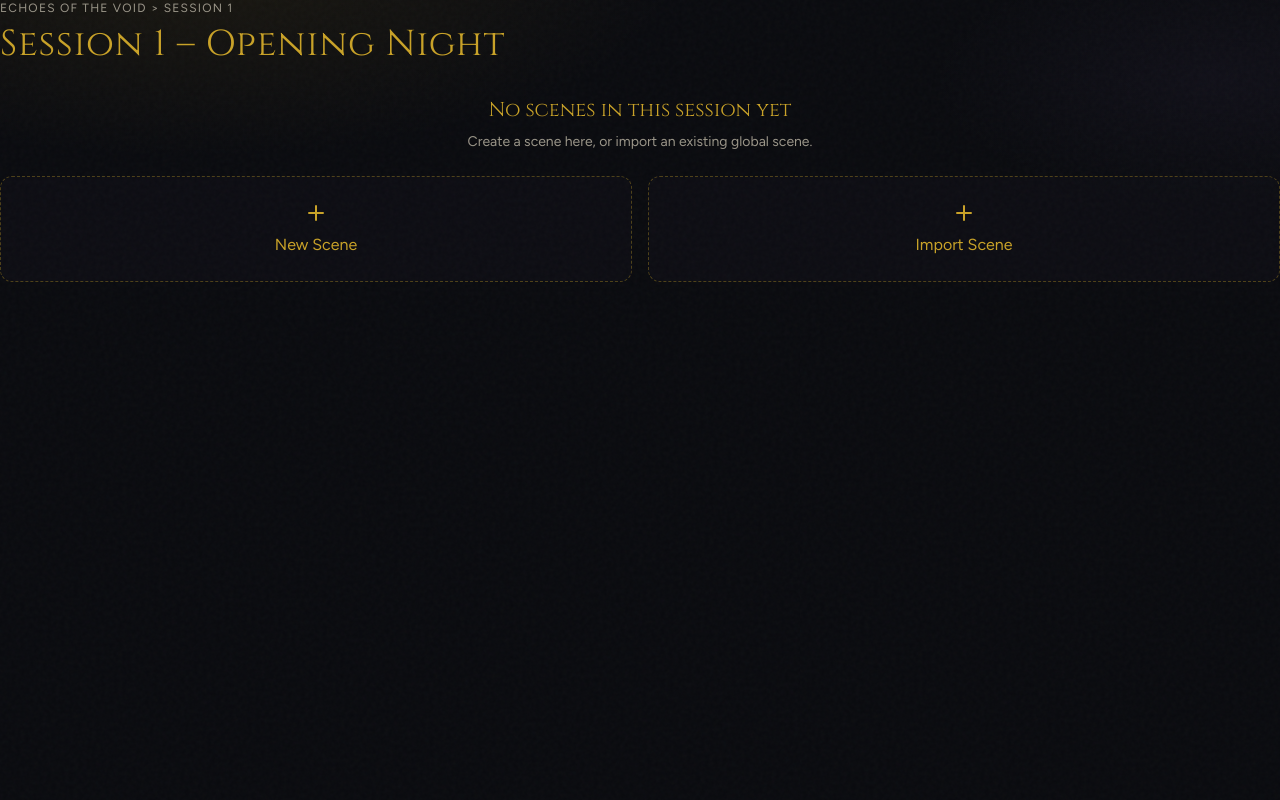
Test: SessionScenesPage › creates a scene, auto-links it, and stays on Session Scenes
Step 1. Click the button "New Scene" → [316, 244], box [0,176,632,282]
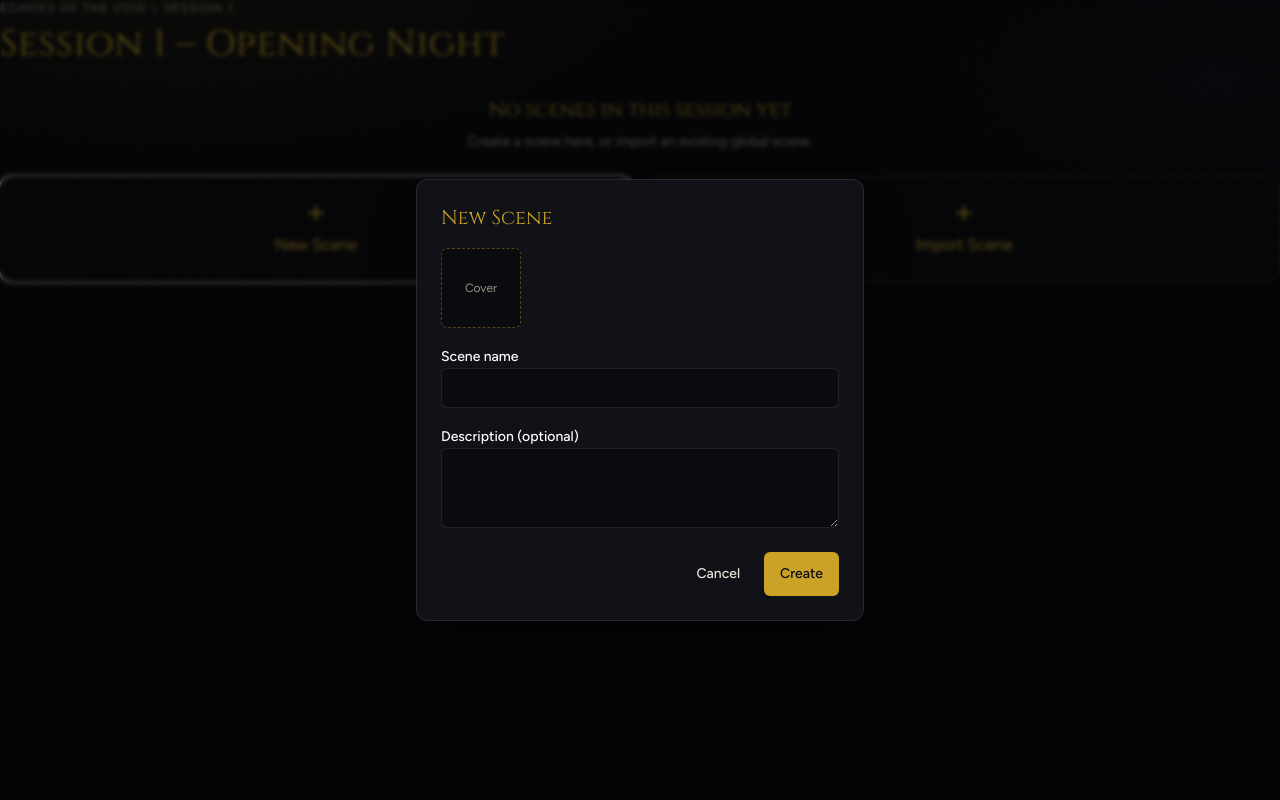
Step 2. Type "Tavern" into the field labelled "Scene name" → [640, 388], box [441,368,839,408]
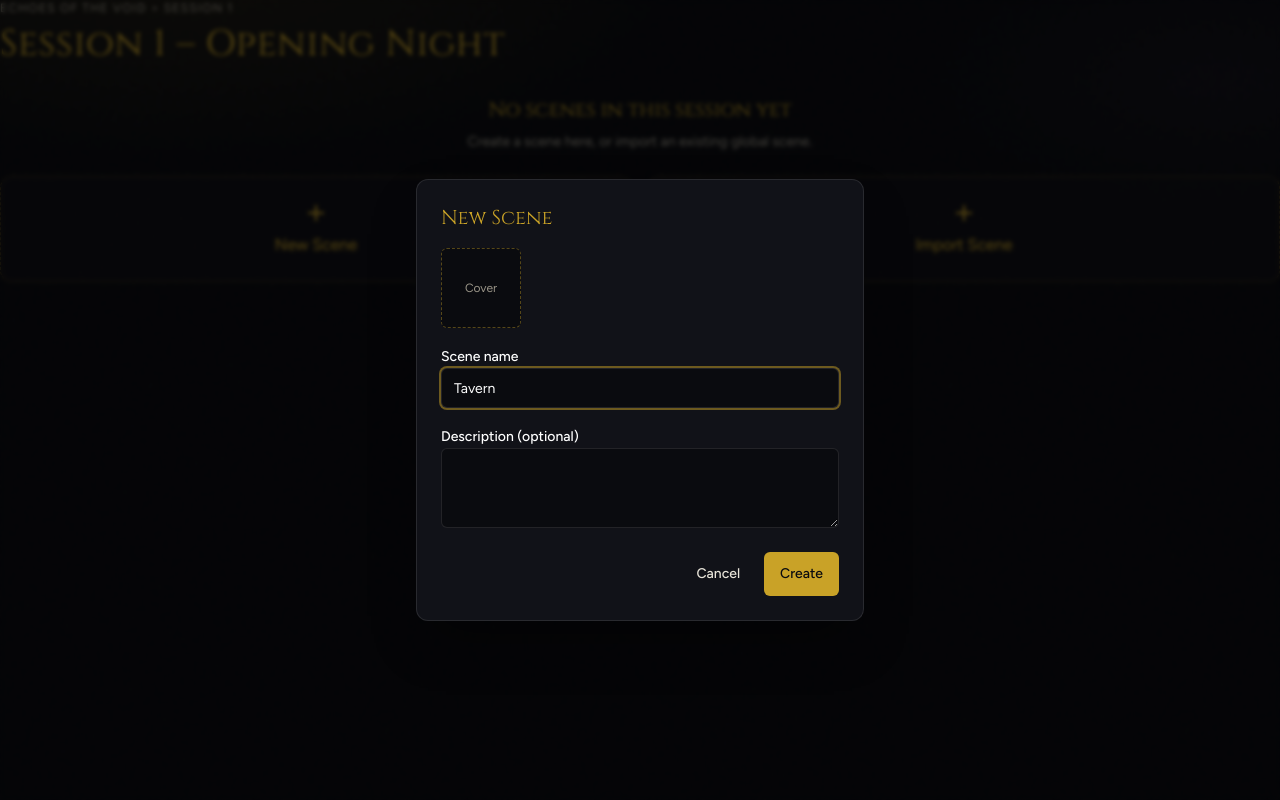
Step 3. Click the button "Create" → [802, 574], box [764,552,839,596]
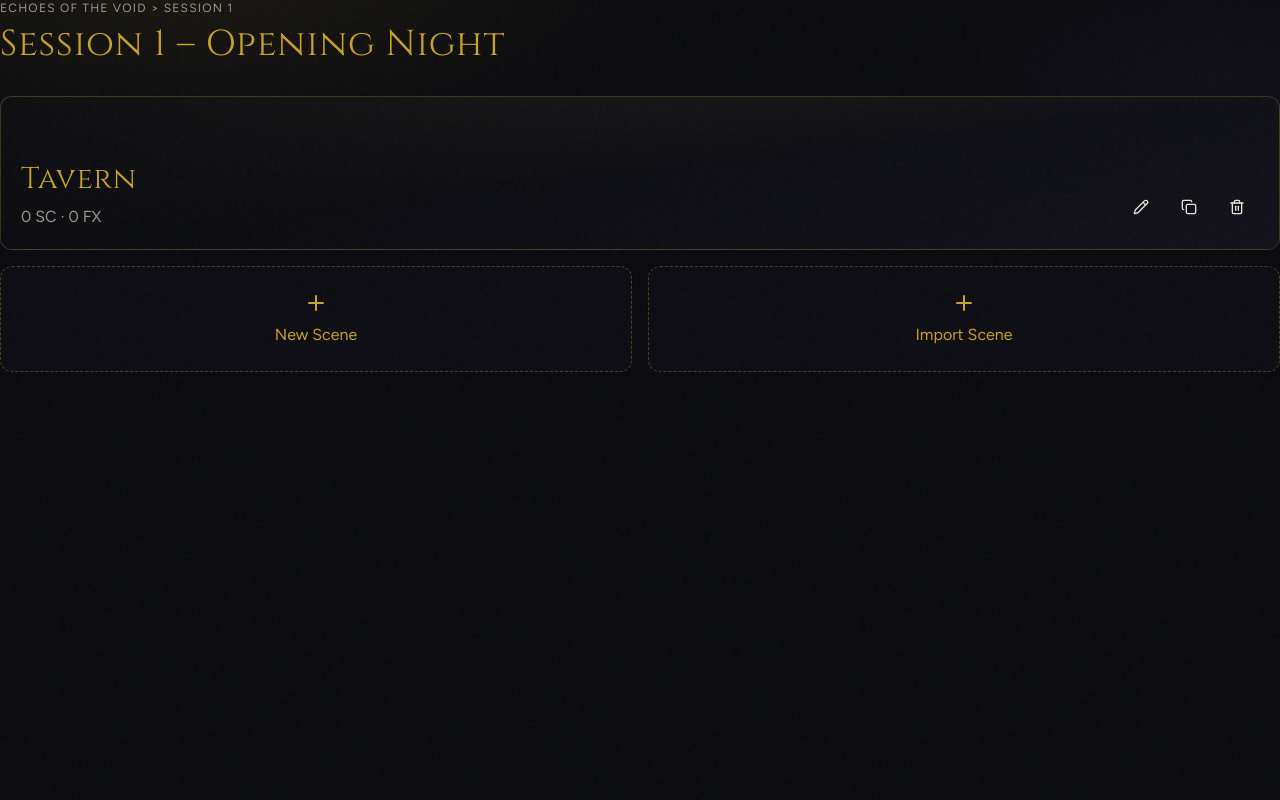
Expected: the element named "Session Scenes screen" is shown, [0,0,1279,372]
Expected: the heading "Tavern" is shown, [21,159,137,199]
